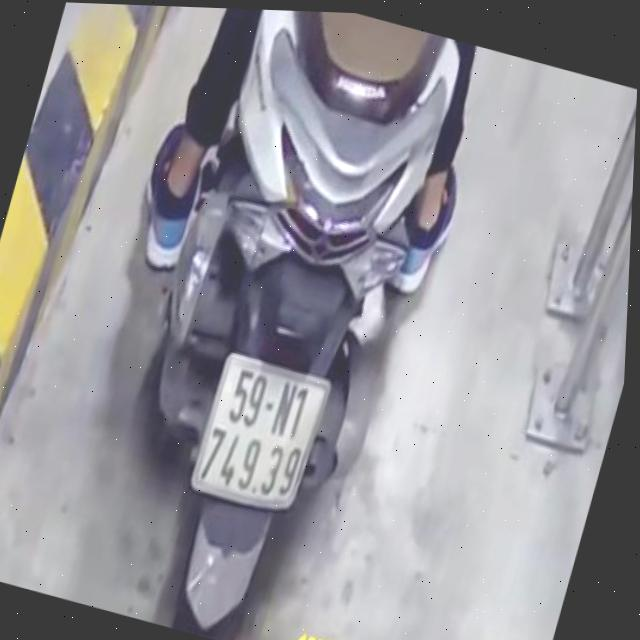motorcycle: (76, 4, 487, 640)
plate: (181, 341, 335, 519)
